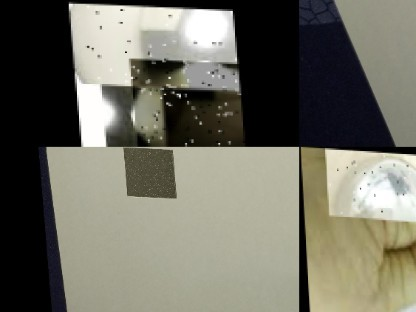ironball: (66, 2, 238, 89), (324, 147, 415, 220)
